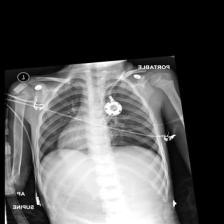normal: (30, 76, 168, 181)
